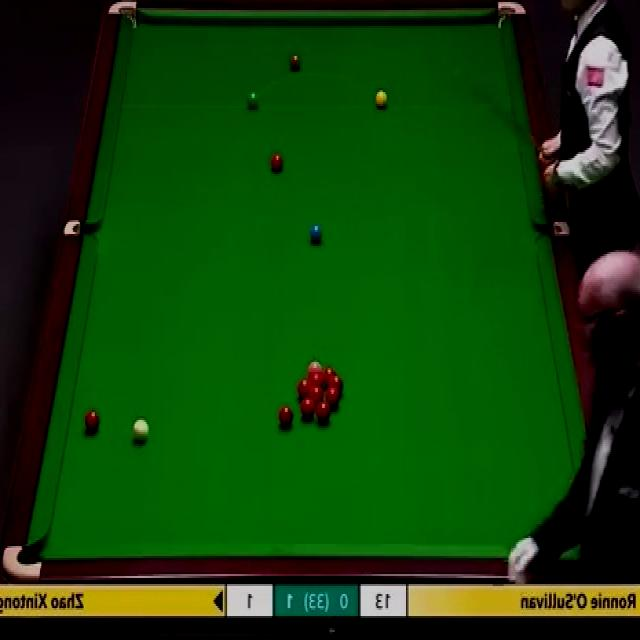pocket: (5, 540, 42, 580), (591, 538, 628, 576), (109, 3, 138, 27), (497, 0, 519, 25), (72, 221, 98, 240), (542, 223, 569, 240)
